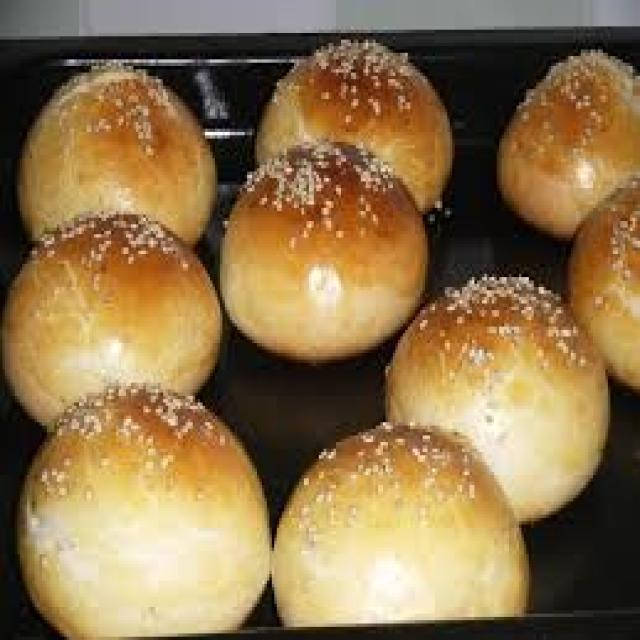organic: (20, 388, 265, 634), (392, 280, 605, 520), (275, 426, 519, 624), (223, 145, 428, 364), (7, 215, 218, 422), (11, 57, 225, 233), (258, 39, 450, 212), (496, 46, 640, 234), (566, 176, 640, 391)
